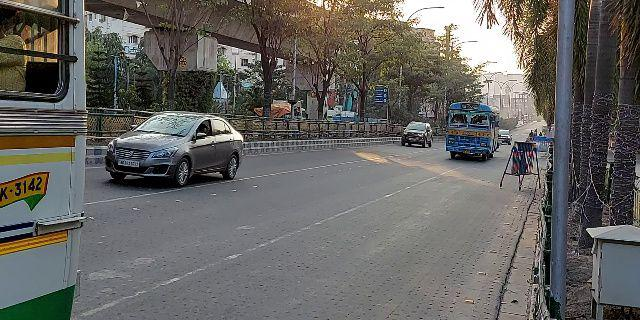Bus: (442, 98, 500, 166)
Car: (99, 105, 247, 189), (398, 121, 434, 149)
